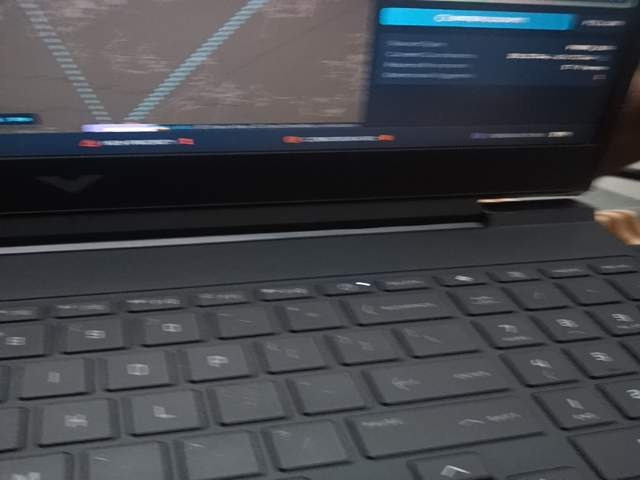pothole: (533, 403, 640, 480)
